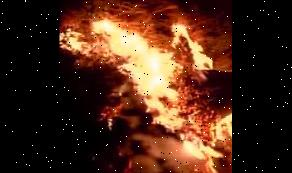fire: (59, 6, 232, 173)
